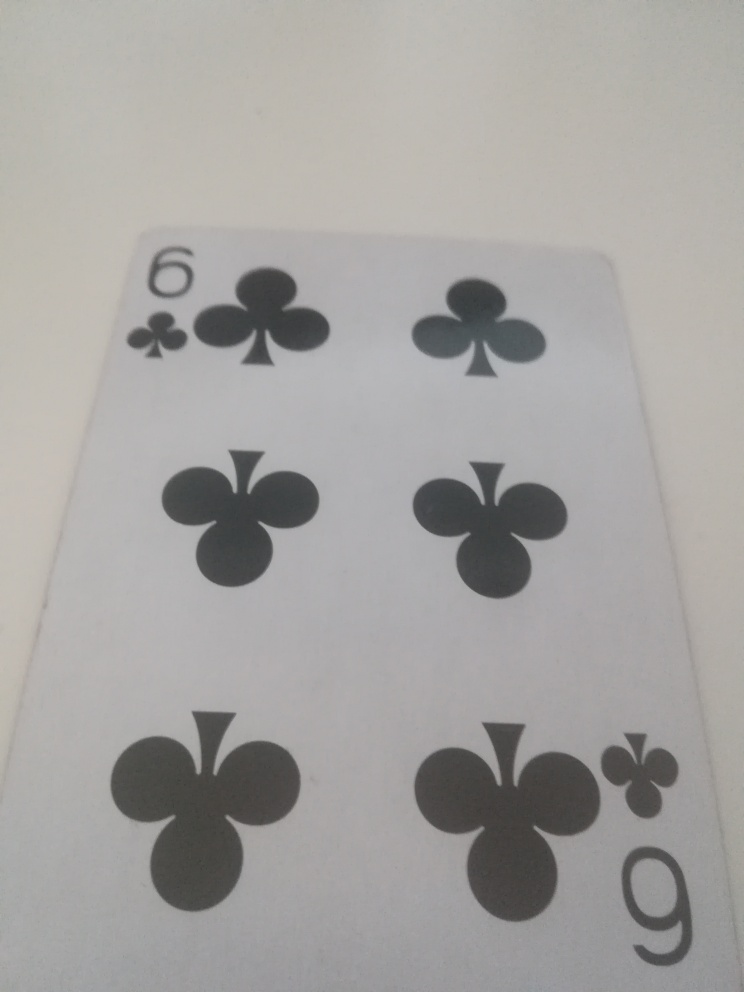6C: (125, 240, 200, 368)
